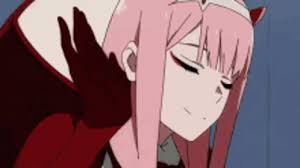zeroTwo: (110, 1, 267, 144)
